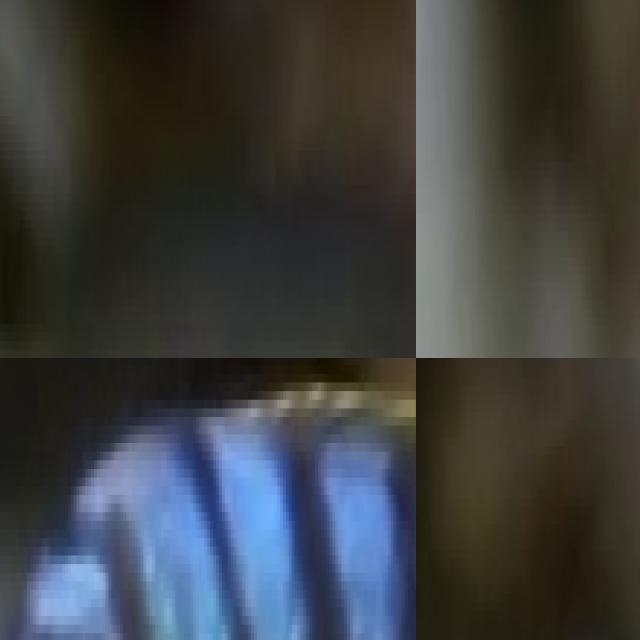fish: (0, 3, 416, 358)
